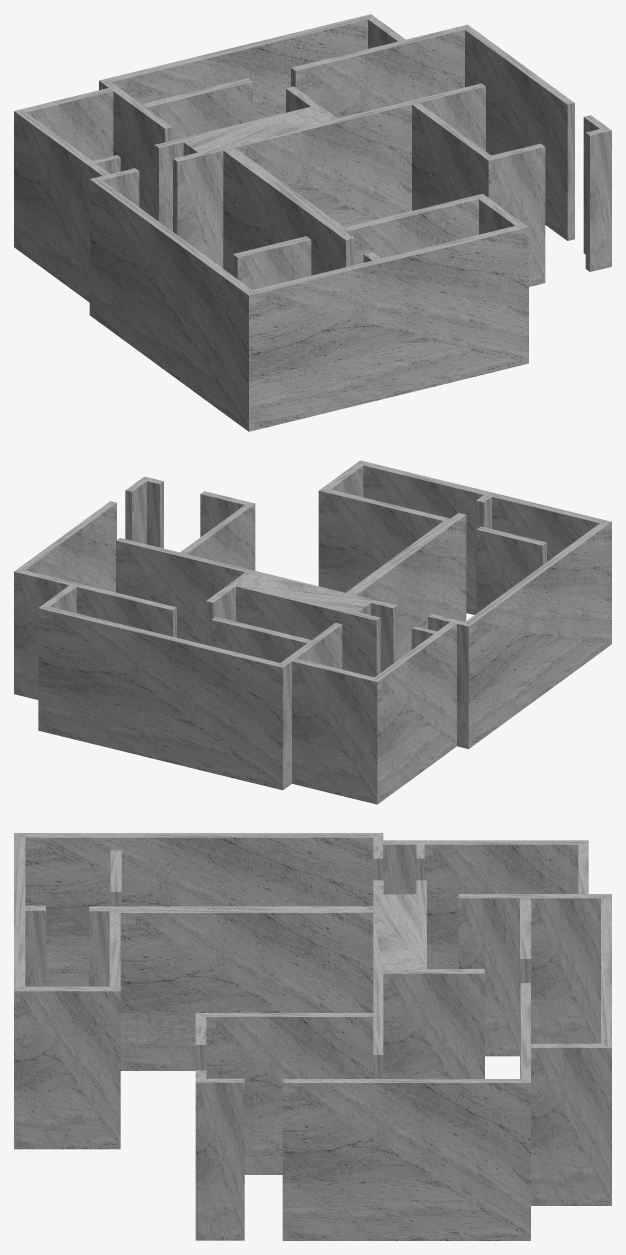
File: exhibit.obj
3 views of the same model, one above another, from view 1: azimuth 30°, elevation 25°; view 2: azimuth 150°, elevation 25°; view 3: azimuth 270°, elevation 25° (orthographic). The views are drawn at different scales.
Visible parts, largest first — view 1: 001_Buffer_Layer, 000_Buffer_Layer, 002_Buffer_Layer; view 2: 001_Buffer_Layer, 002_Buffer_Layer, 000_Buffer_Layer; view 3: 001_Buffer_Layer, 000_Buffer_Layer, 002_Buffer_Layer.
Part boxes in pixels (x1,y1,x2,y2): 001_Buffer_Layer: (14,14,574,431); 000_Buffer_Layer: (583,115,611,271); 002_Buffer_Layer: (233,236,311,289); 001_Buffer_Layer: (14,460,611,804); 002_Buffer_Layer: (476,526,546,612); 000_Buffer_Layer: (125,476,163,548); 001_Buffer_Layer: (14,833,611,1240); 000_Buffer_Layer: (195,1070,244,1240); 002_Buffer_Layer: (110,850,121,906).
Size of the model in its own units: 3141 by 925 by 3175.
